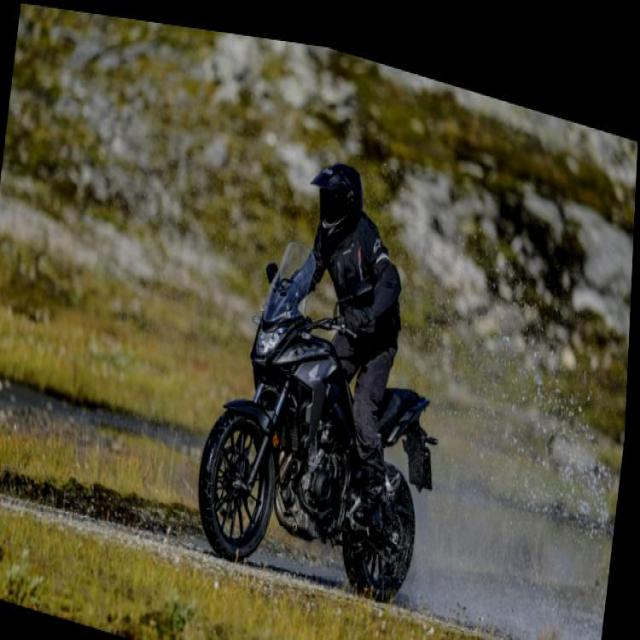CB500X: (194, 210, 447, 604)
